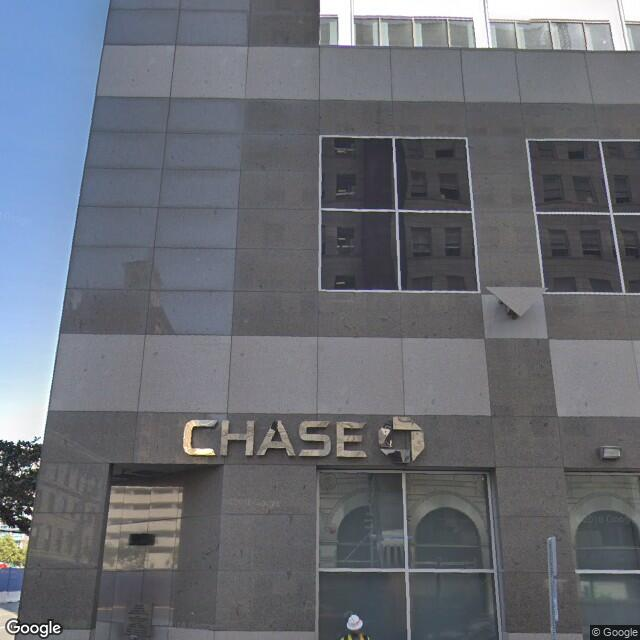window: (404, 470, 494, 600), (315, 465, 398, 603), (536, 206, 619, 305), (393, 206, 478, 294), (315, 131, 394, 221)
